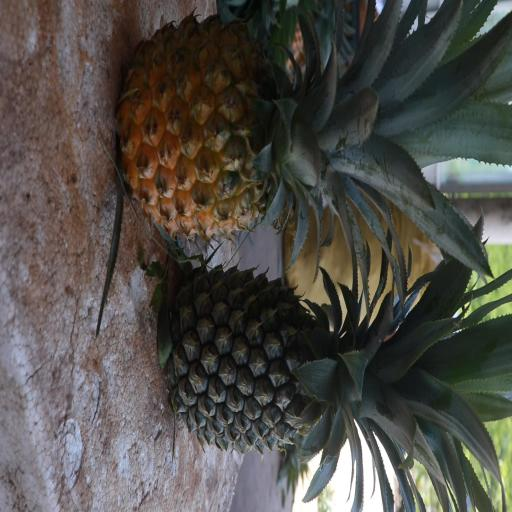Pineapple - v8 v1: (124, 14, 454, 224)
